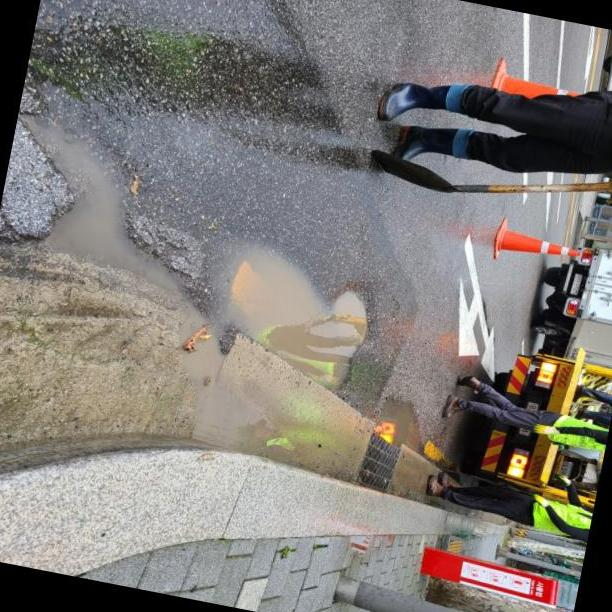pothole: (202, 229, 395, 403)
